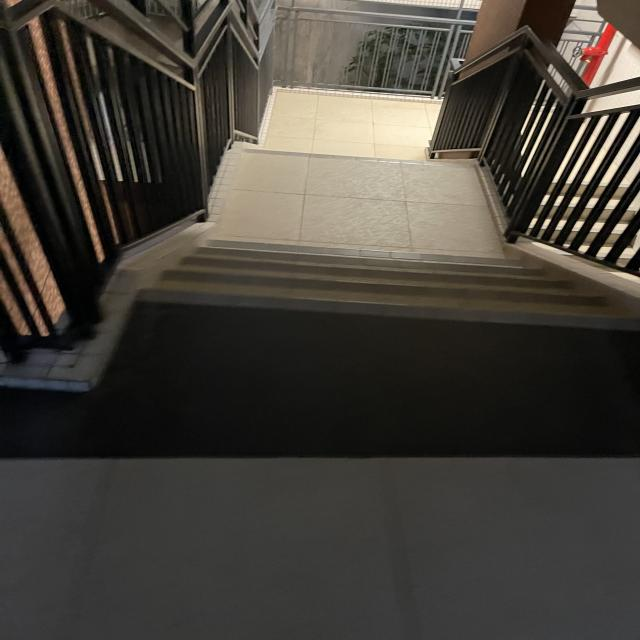Stairs: (125, 220, 640, 364), (225, 64, 491, 227)
